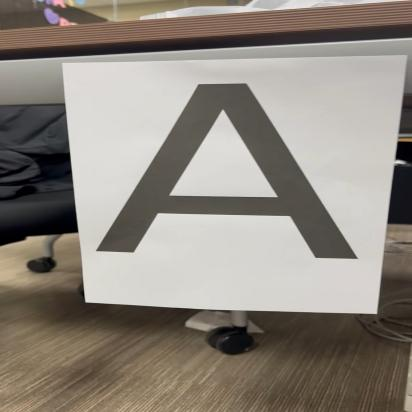seat: (89, 77, 363, 266)
